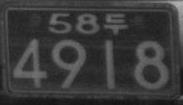1: (93, 39, 125, 89)
4: (12, 38, 47, 88)
5: (48, 12, 72, 35)
8: (133, 38, 170, 91), (75, 12, 100, 35)
9: (51, 38, 87, 89)
두: (103, 12, 128, 35)
